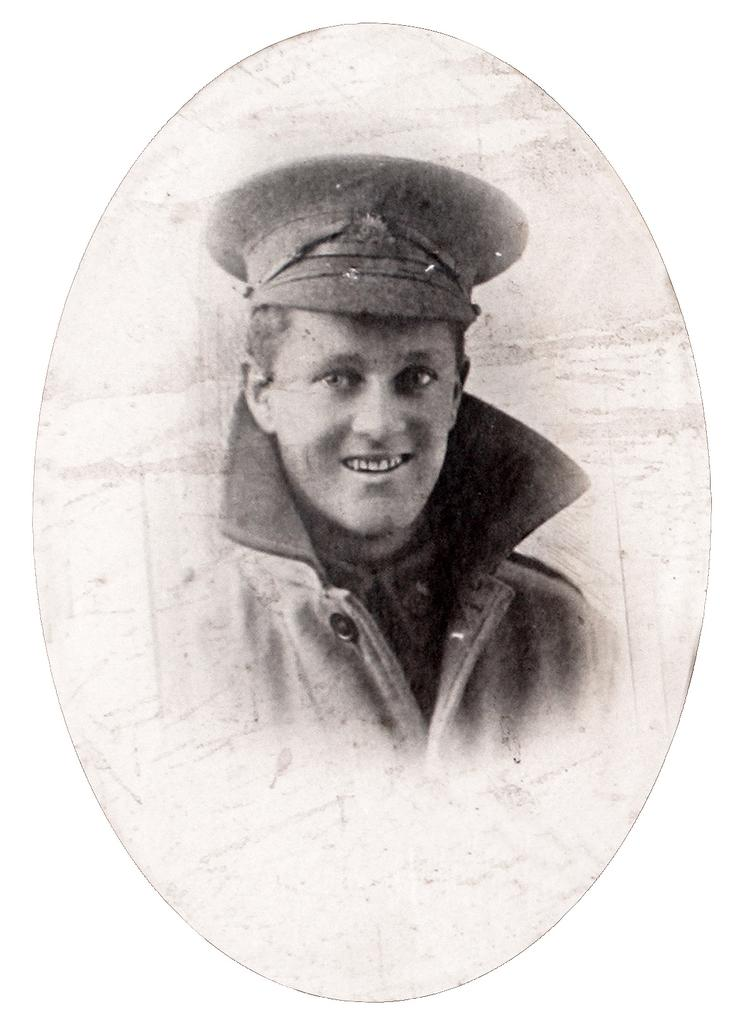Hat: (200, 149, 532, 315)
